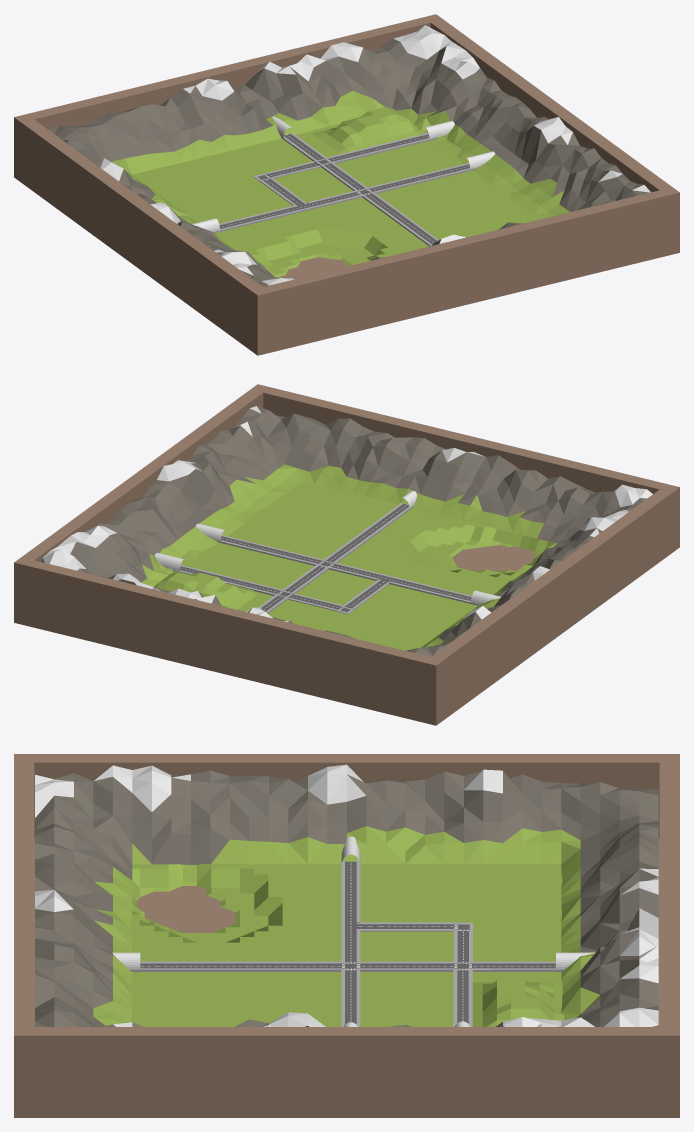
File: world.gltf
3 renders of one model, top to bottom at view 1: azimuth 30°, elevation 25°; view 2: azimuth 150°, elevation 25°; view 3: azimuth 270°, elevation 25°, orthographic. The views are drawn at different scales.
Visible parts, largest first — view 1: world_box, world_surface, Plane, road3 three; view 2: world_box, world_surface, Plane, road3 three; view 3: world_box, world_surface, Plane, road3 three.
Boxes of the visible parts, x1=… form: world_box: x1=14, y1=14, x2=679, y2=355; world_surface: x1=48, y1=25, x2=650, y2=286; Plane: x1=132, y1=107, x2=538, y2=278; road3 three: x1=213, y1=132, x2=476, y2=246; world_box: x1=14, y1=384, x2=679, y2=725; world_surface: x1=41, y1=406, x2=652, y2=656; Plane: x1=154, y1=481, x2=556, y2=650; road3 three: x1=172, y1=503, x2=480, y2=614; world_box: x1=14, y1=754, x2=679, y2=1117; world_surface: x1=35, y1=764, x2=658, y2=1026; Plane: x1=131, y1=864, x2=564, y2=1026; road3 three: x1=129, y1=860, x2=563, y2=1026.
Size of the model in its own units: 3.2 by 0.4825 by 3.2.
5 materials, 1 textured.
